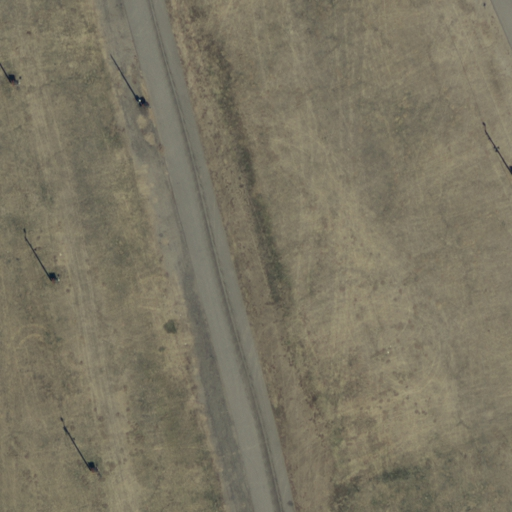DT: (80, 452, 111, 490), (126, 88, 157, 119), (4, 69, 32, 101), (39, 265, 69, 293)
